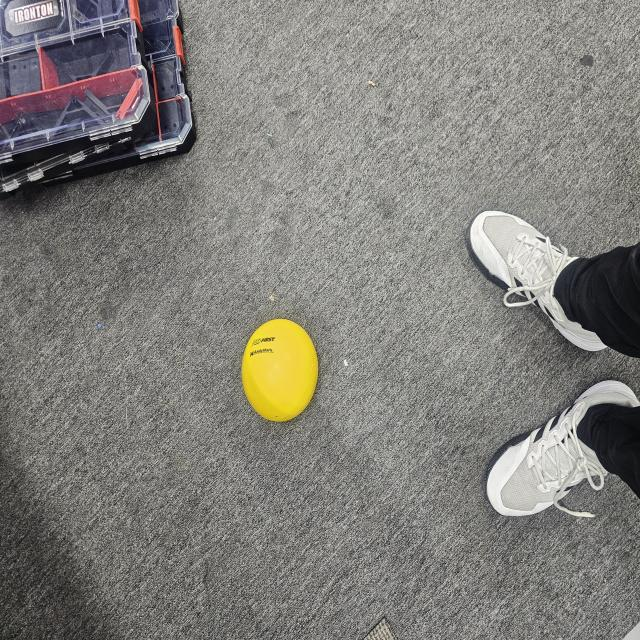Fuel: (237, 313, 325, 433)
